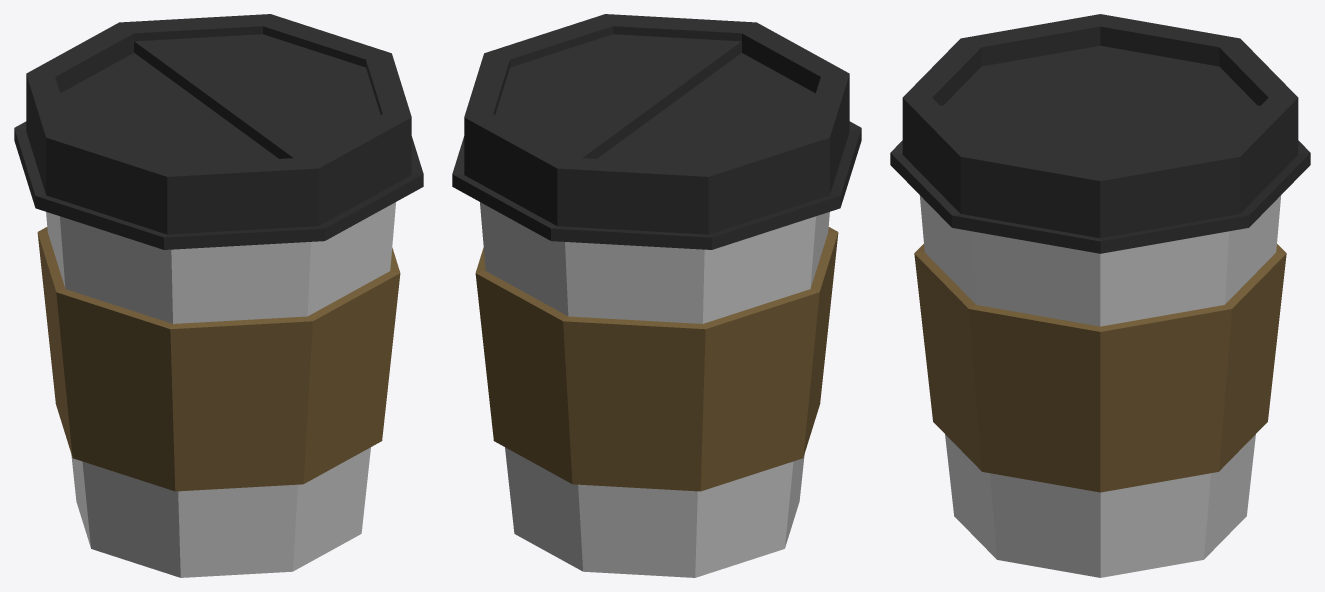
The model's file is Coffee Cup.fbx.
3 renders of one model, left to right at view 1: azimuth 30°, elevation 25°; view 2: azimuth 150°, elevation 25°; view 3: azimuth 270°, elevation 25°, orthographic.
Parts seen in each view (by area): view 1: Cup1; view 2: Cup1; view 3: Cup1.
Part boxes in pixels (x1=…): Cup1: x1=14, y1=14, x2=423, y2=577; Cup1: x1=452, y1=14, x2=861, y2=577; Cup1: x1=890, y1=14, x2=1310, y2=577.
Size of the model in its own units: 229 by 252 by 229.
